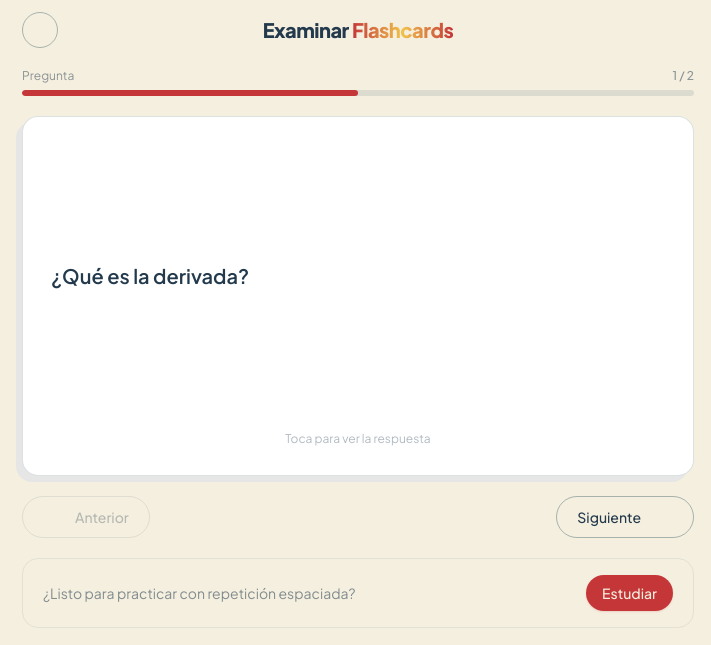
Test: FlashcardsExamineUnitPage › navigates to previous card when Anterior is clicked
expect the text "¿Qué es la derivada?" is shown: met, box [51,263,249,288]
Note: Go to second card
Step 1. Click the button "Siguiente" → coordinates (625, 517), box [556,496,694,538]
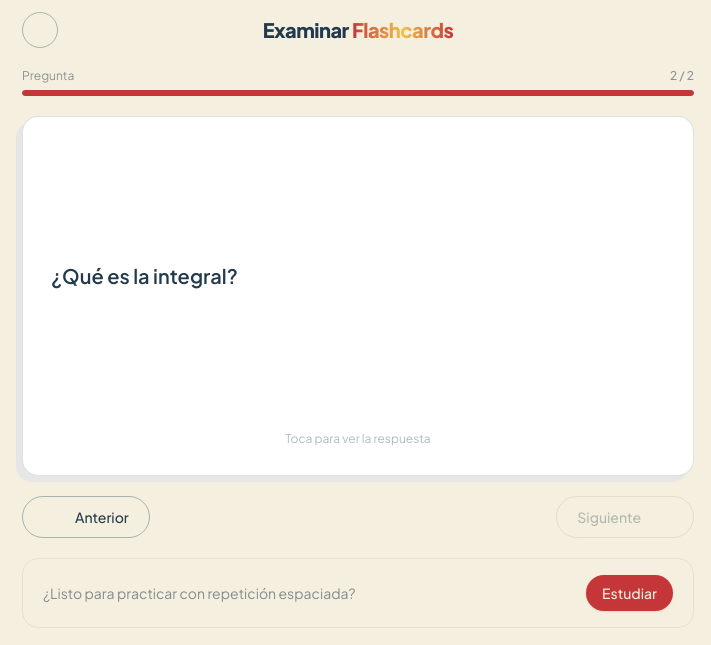
expect the text "¿Qué es la integral?" is shown: met, box [51,263,238,288]
Note:  Go back
Step 2. Click the button "Anterior" → coordinates (86, 517), box [22,496,150,538]
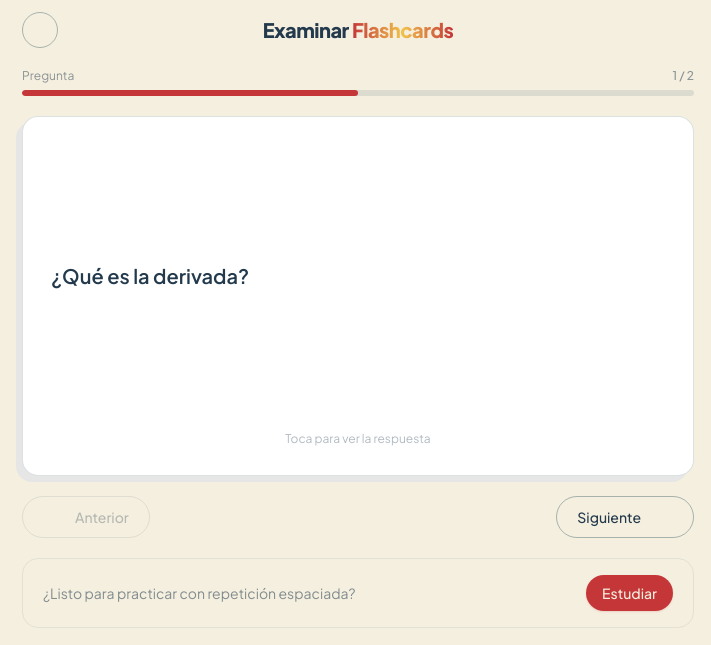
expect the text "¿Qué es la derivada?" is shown: met, box [51,263,249,288]
